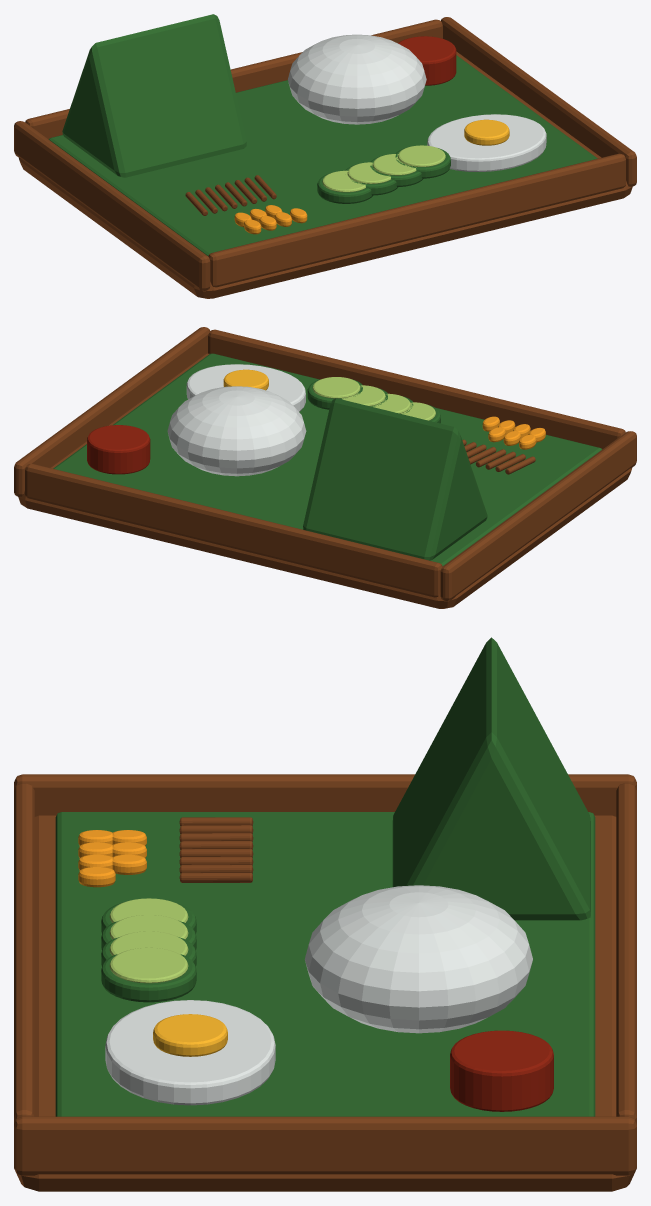
The model's file is edited.glb.
3 views of the same model, one above another, from view 1: azimuth 30°, elevation 25°; view 2: azimuth 150°, elevation 25°; view 3: azimuth 270°, elevation 25° (orthographic). The views are drawn at different scales.
Parts seen in each view (by area): view 1: LEAF_Liner, LEAF_Packet, TRAY_Rim.002, RICE_Mound, TRAY_Rim, TRAY_Base, TRAY_Rim.001, EGG_White, TRAY_Rim.003, SAMBAL, EGG_Yolk, CUCUMBER_Flesh (+6 smaller); view 2: LEAF_Packet, LEAF_Liner, TRAY_Rim.003, RICE_Mound, TRAY_Rim.002, TRAY_Rim, TRAY_Base, TRAY_Rim.001, SAMBAL, EGG_White, CUCUMBER_Flesh, EGG_Yolk (+4 smaller); view 3: LEAF_Liner, TRAY_Rim.001, LEAF_Packet, RICE_Mound, TRAY_Base, TRAY_Rim, EGG_White, SAMBAL, TRAY_Rim.002, TRAY_Rim.003, EGG_Yolk, CUCUMBER_Flesh (+5 smaller).
Part boxes in pixels (<box>): LEAF_Liner: <box>48,55,597,255</box>; LEAF_Packet: <box>62,14,246,177</box>; TRAY_Rim.002: <box>208,153,625,287</box>; RICE_Mound: <box>288,34,426,124</box>; TRAY_Rim: <box>14,121,210,290</box>; TRAY_Base: <box>19,51,632,298</box>; TRAY_Rim.001: <box>441,17,636,186</box>; EGG_White: <box>427,114,546,171</box>; TRAY_Rim.003: <box>25,19,442,139</box>; SAMBAL: <box>398,36,456,85</box>; EGG_Yolk: <box>464,119,509,145</box>; CUCUMBER_Flesh: <box>398,145,445,166</box>; LEAF_Packet: <box>303,398,487,560</box>; LEAF_Liner: <box>53,353,602,565</box>; TRAY_Rim.003: <box>25,463,442,597</box>; RICE_Mound: <box>167,386,306,476</box>; TRAY_Rim.002: <box>208,329,625,449</box>; TRAY_Rim: <box>440,431,636,600</box>; TRAY_Base: <box>18,353,631,608</box>; TRAY_Rim.001: <box>14,327,209,496</box>; SAMBAL: <box>87,425,150,474</box>; EGG_White: <box>186,364,305,411</box>; CUCUMBER_Flesh: <box>312,377,360,398</box>; EGG_Yolk: <box>223,369,268,390</box>; LEAF_Liner: <box>55,812,595,1116</box>; TRAY_Rim.001: <box>14,1116,636,1175</box>; LEAF_Packet: <box>392,637,590,920</box>; RICE_Mound: <box>304,885,532,1033</box>; TRAY_Base: <box>14,815,636,1191</box>; TRAY_Rim: <box>14,774,636,816</box>; EGG_White: <box>105,1000,275,1105</box>; SAMBAL: <box>450,1030,553,1111</box>; TRAY_Rim.002: <box>14,783,34,1123</box>; TRAY_Rim.003: <box>616,783,636,1123</box>; EGG_Yolk: <box>153,1014,227,1056</box>; CUCUMBER_Flesh: <box>109,947,188,983</box>.
Size of the model in its own units: 0.4 by 0.1299 by 0.3.
